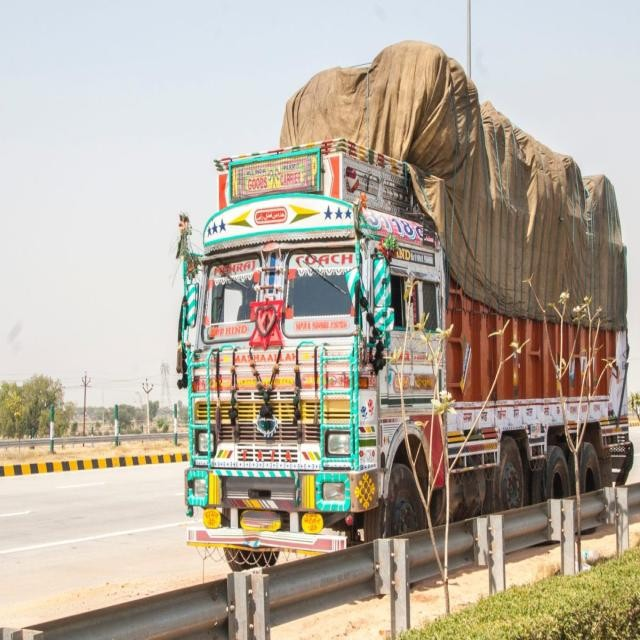truck: (172, 145, 630, 561)
